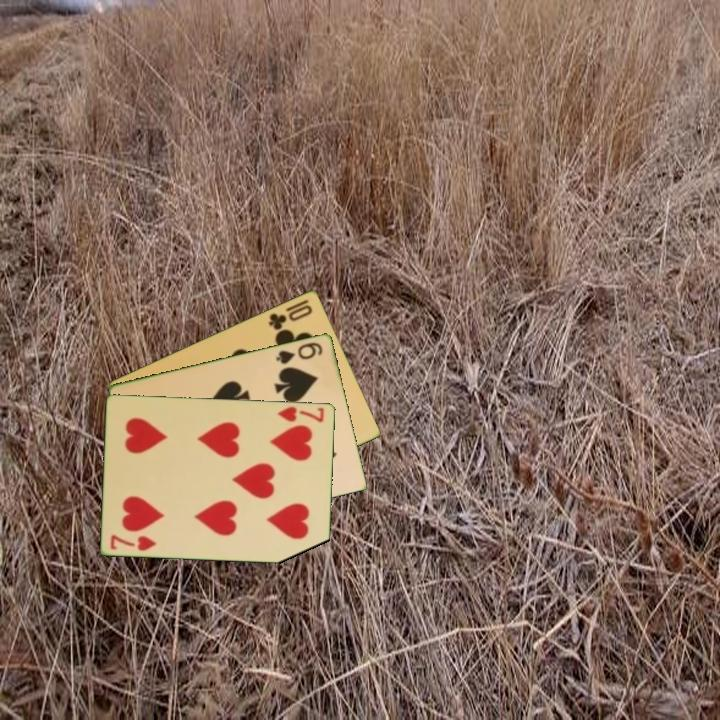10c: (265, 301, 315, 333)
6s: (273, 338, 326, 367)
7h: (275, 402, 327, 425), (107, 531, 160, 553)
